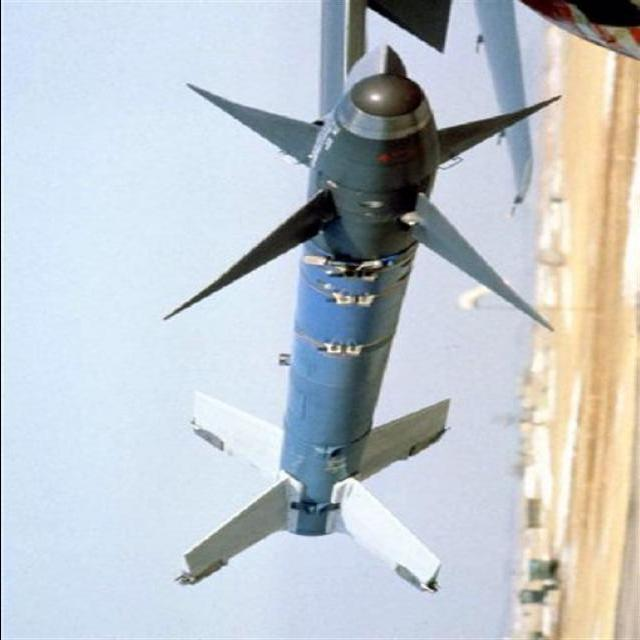missile: (152, 79, 568, 598)
